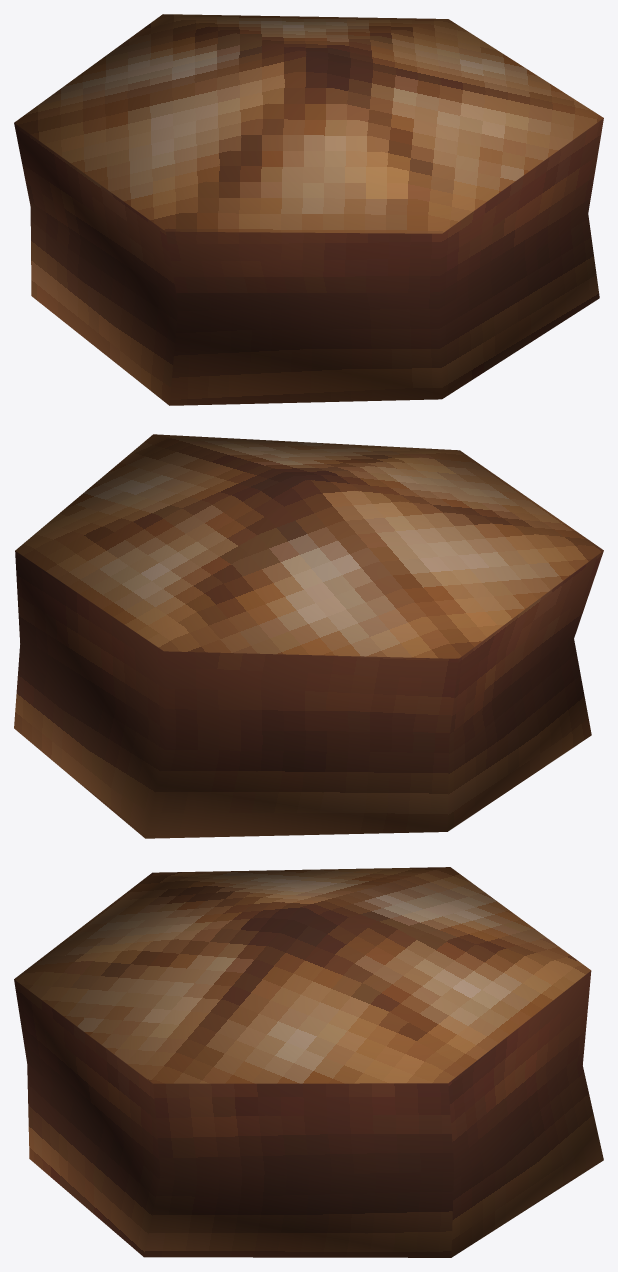
File: bread.glb
3 views of the same model, one above another, from view 1: azimuth 30°, elevation 25°; view 2: azimuth 150°, elevation 25°; view 3: azimuth 270°, elevation 25° (orthographic). The views are drawn at different scales.
Visible parts, largest first — view 1: bread_00; view 2: bread_00; view 3: bread_00.
Part boxes in pixels (x1=…): bread_00: x1=14, y1=14, x2=603, y2=405; bread_00: x1=14, y1=434, x2=603, y2=838; bread_00: x1=14, y1=867, x2=603, y2=1257.
Size of the model in its own units: 0.3651 by 0.1966 by 0.4132.
1 material, 1 textured.
